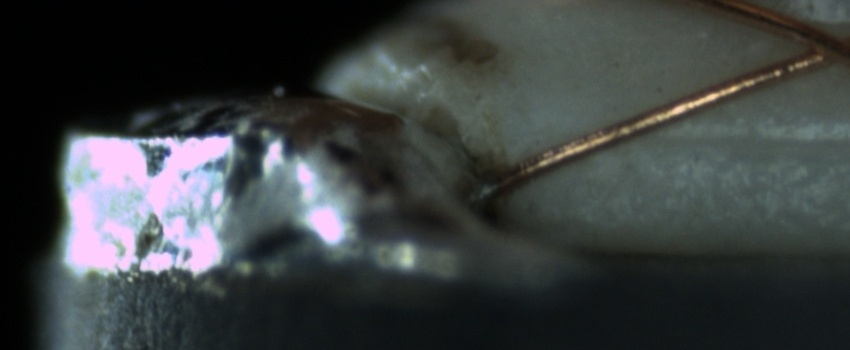CL: (774, 14, 848, 76)
DL: (610, 104, 845, 172)
